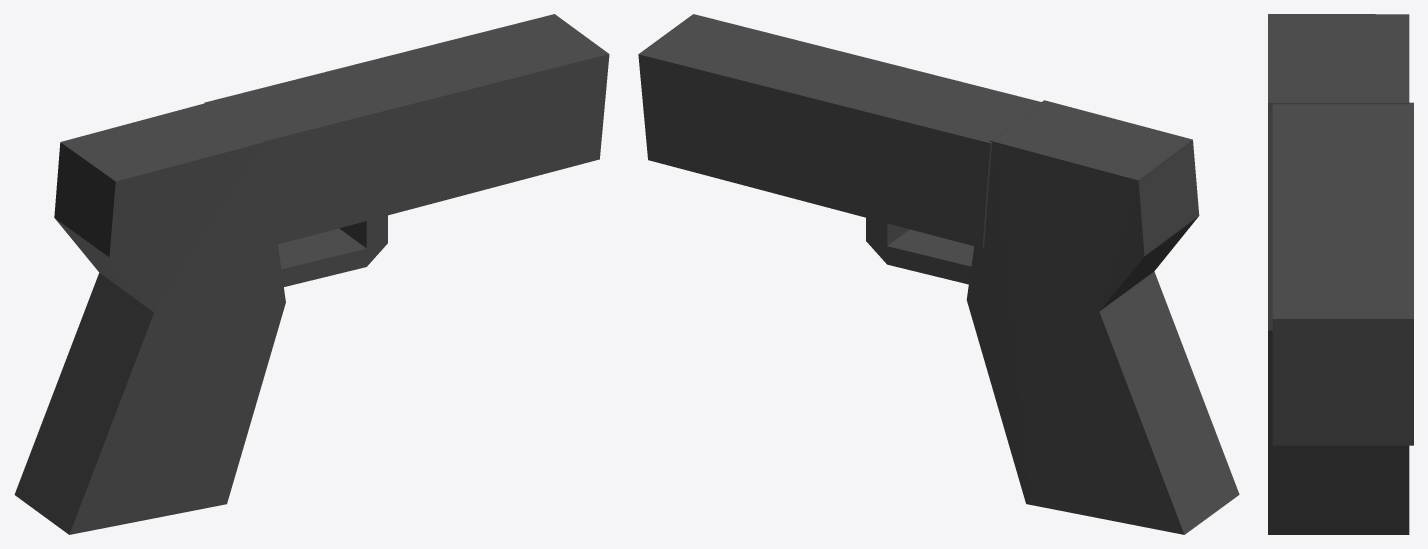
Rendered from pistolv2.fbx.
3 renders of one model, left to right at view 1: azimuth 30°, elevation 25°; view 2: azimuth 150°, elevation 25°; view 3: azimuth 270°, elevation 25°, orthographic. The views are drawn at different scales.
Visible parts, largest first — view 1: Cube.002; view 2: Cube.002; view 3: Cube.002.
Part boxes in pixels (left/top/right/bottom): Cube.002: left=14, top=14, right=609, bottom=534; Cube.002: left=638, top=14, right=1239, bottom=534; Cube.002: left=1268, top=14, right=1413, bottom=534.
Bounding box in the file's own units: 21.36 × 13.38 × 3.86.
